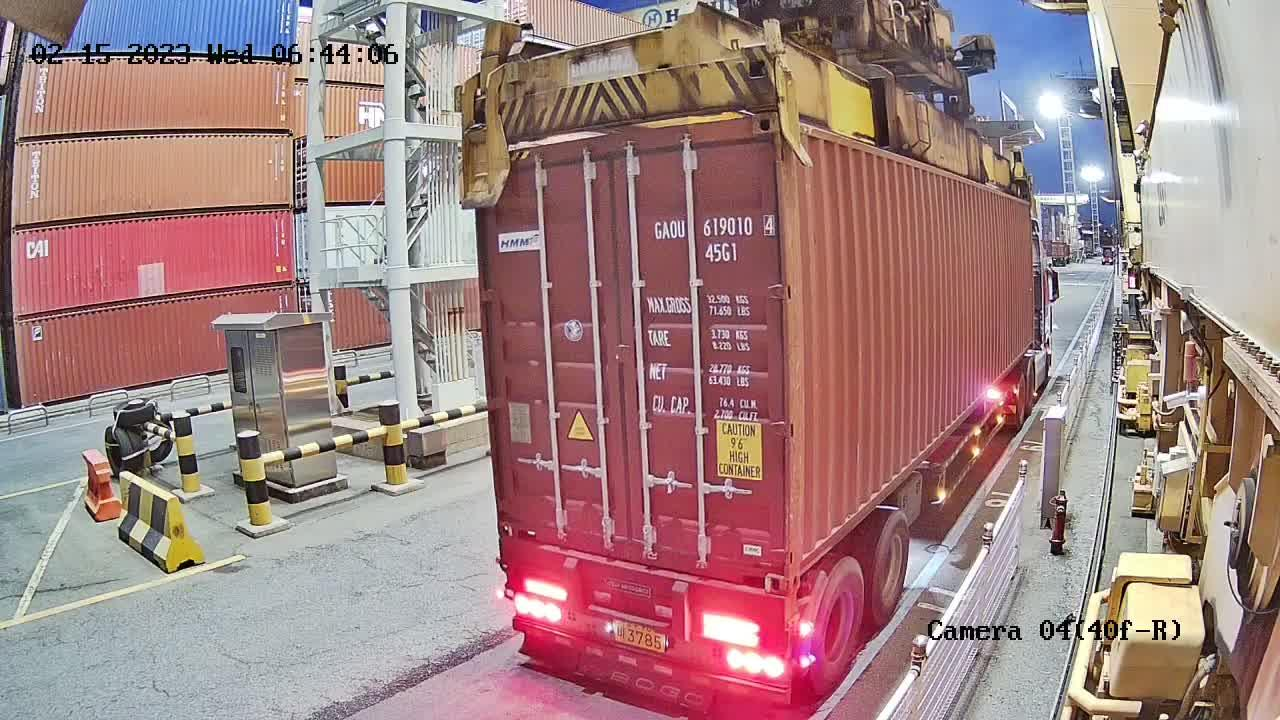Chassis: (497, 540, 788, 622)
Hole_L: (497, 486, 542, 543), (791, 520, 823, 595)
Hole_R: (744, 538, 793, 593)
Tire: (813, 559, 866, 686), (868, 513, 908, 623)
